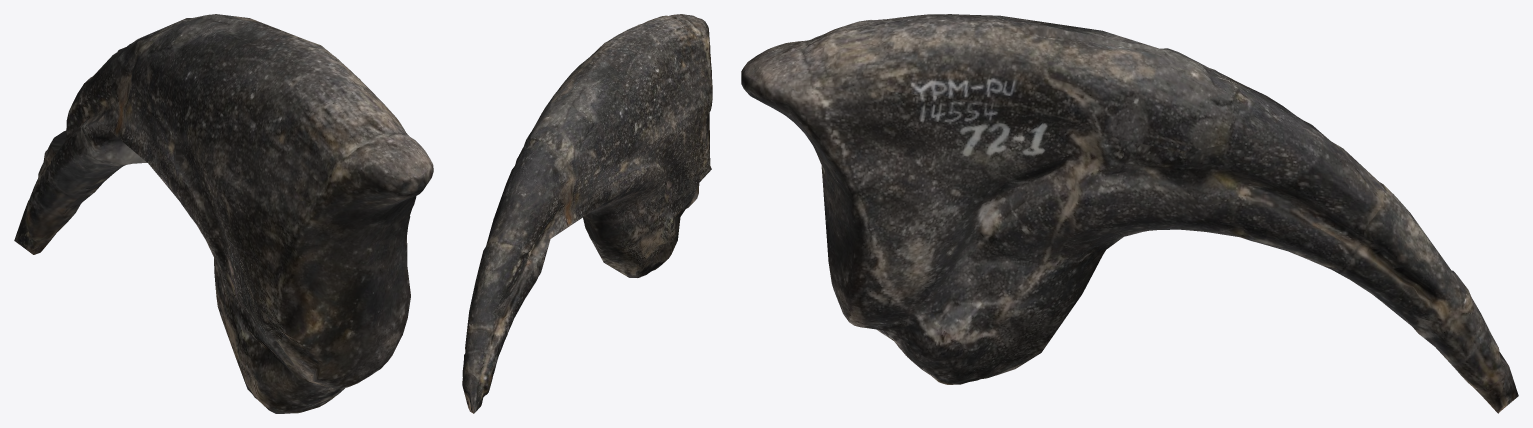
Rendered from claw.glb.
3 renders of one model, left to right at view 1: azimuth 30°, elevation 25°; view 2: azimuth 150°, elevation 25°; view 3: azimuth 270°, elevation 25°, orthographic. The views are drawn at different scales.
Size of the model in its own units: 0.0217 by 0.0591 by 0.1033.
1 material, 1 textured.
